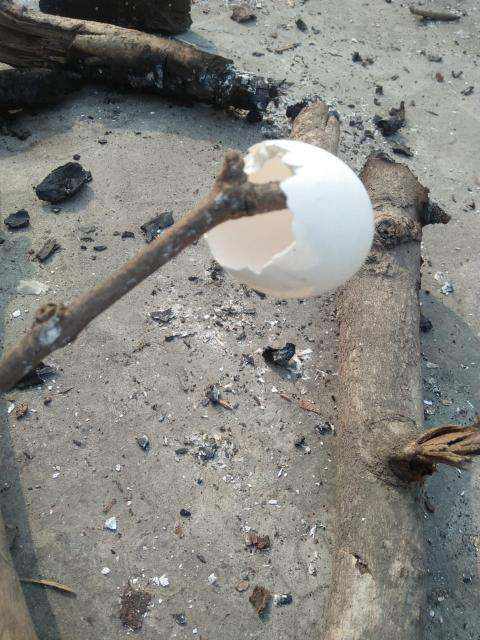Roto: (202, 138, 375, 299)
